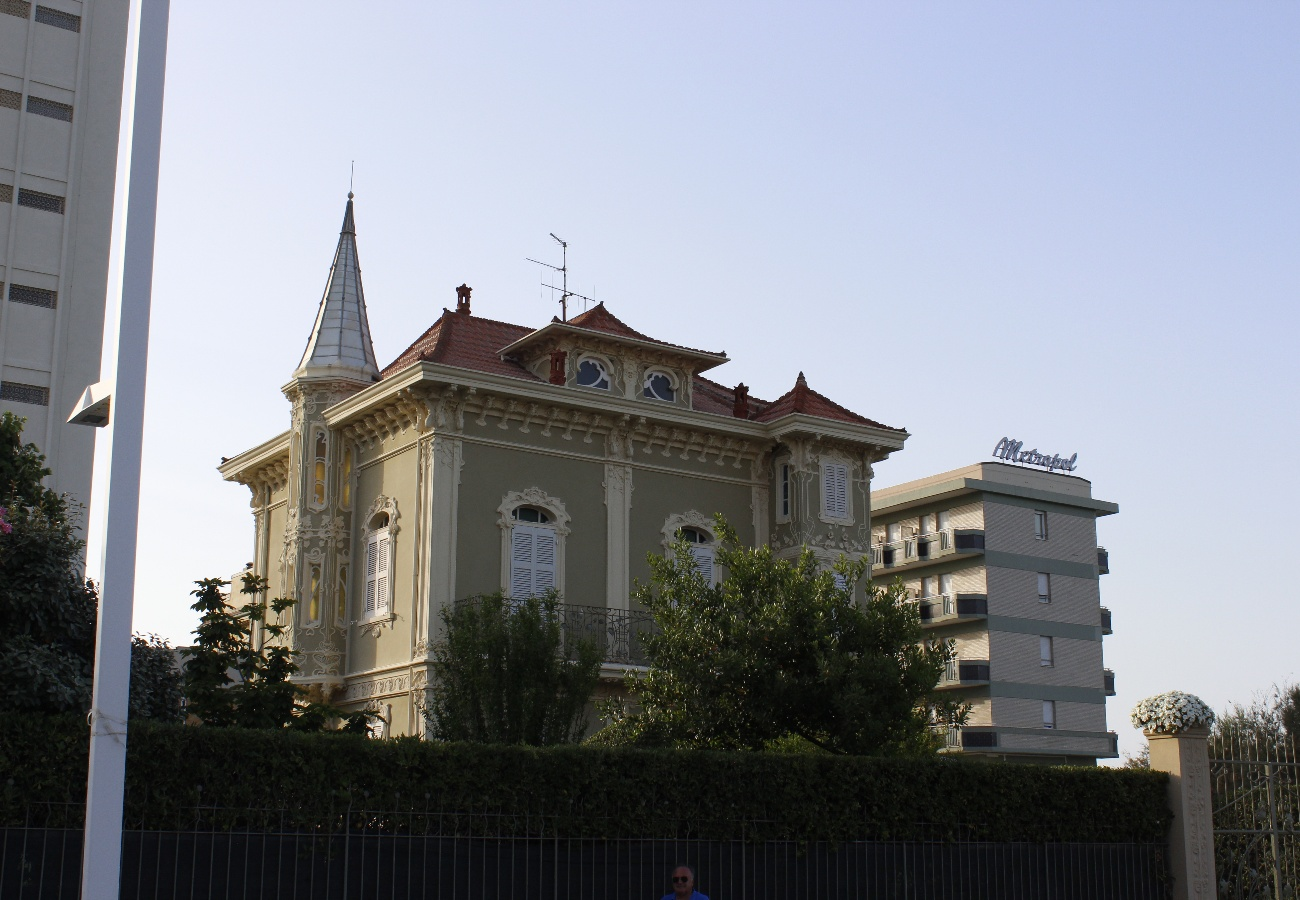Villino Ruggeri: (214, 194, 909, 760)
